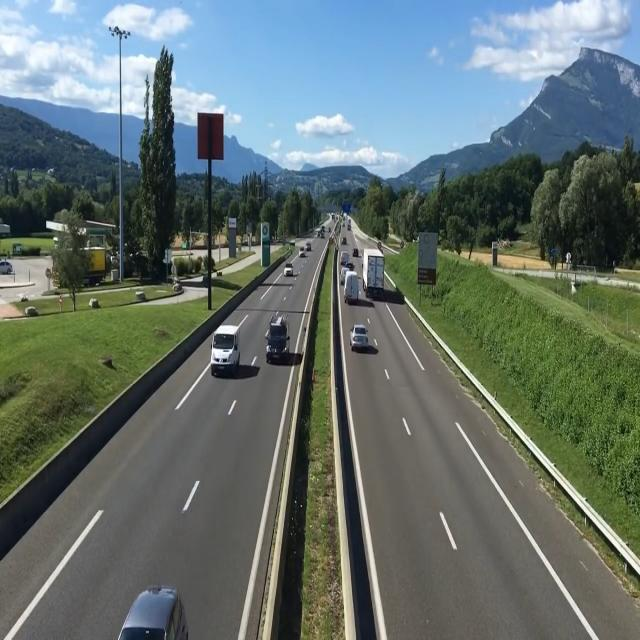car: (100, 578, 190, 640), (209, 320, 244, 378), (267, 308, 295, 365), (351, 319, 374, 355), (341, 268, 362, 306), (340, 244, 355, 271), (281, 258, 296, 282)
truck: (364, 250, 387, 306)
